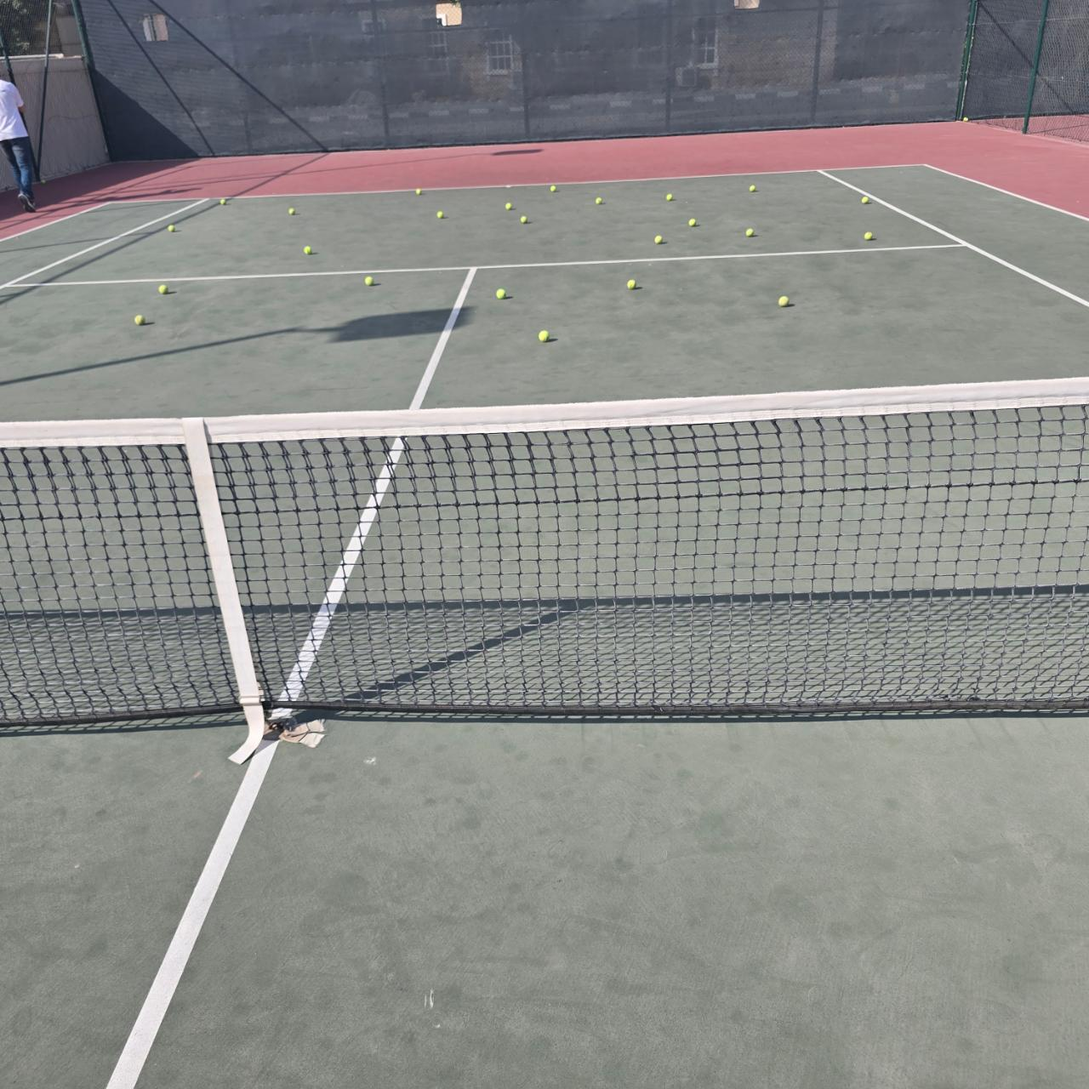tennis-ball: (496, 286, 509, 299), (539, 328, 551, 342), (778, 293, 790, 306), (626, 277, 638, 290), (134, 312, 145, 325), (158, 284, 169, 295), (744, 228, 755, 238), (863, 231, 875, 240), (687, 218, 697, 228), (365, 275, 374, 286), (303, 245, 312, 256), (748, 185, 757, 194), (654, 235, 663, 244), (861, 196, 869, 205), (666, 193, 674, 202), (549, 184, 557, 193), (520, 215, 528, 224), (168, 224, 176, 233), (504, 202, 512, 210), (436, 211, 444, 219), (288, 208, 296, 216), (595, 197, 602, 205), (220, 199, 227, 206), (416, 188, 422, 195), (963, 116, 969, 122)
